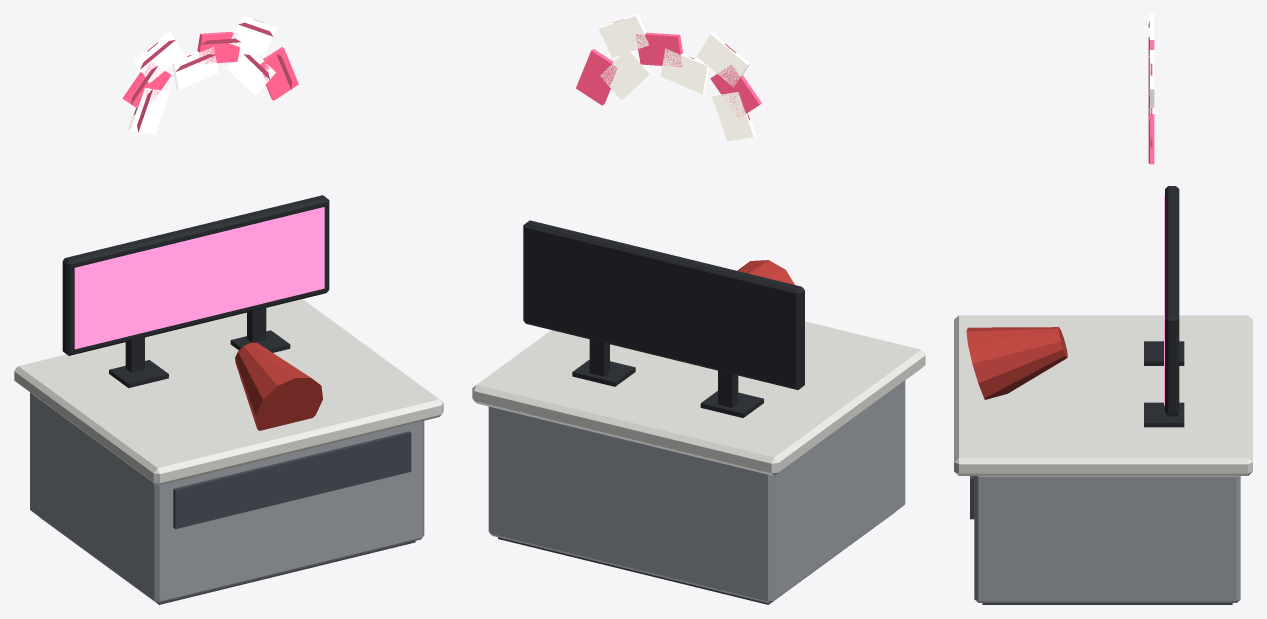
File: replyall_3.glb
3 renders of one model, left to right at view 1: azimuth 30°, elevation 25°; view 2: azimuth 150°, elevation 25°; view 3: azimuth 270°, elevation 25°, orthographic. The views are drawn at different scales.
Visible parts, largest first — view 1: replyall_3_mesh_Desk, replyall_3_mesh; view 2: replyall_3_mesh_Desk, replyall_3_mesh; view 3: replyall_3_mesh_Desk, replyall_3_mesh.
Part boxes in pixels (<box>): replyall_3_mesh_Desk: <box>14,299,443,604</box>; replyall_3_mesh: <box>62,14,329,430</box>; replyall_3_mesh_Desk: <box>472,321,925,604</box>; replyall_3_mesh: <box>523,14,804,417</box>; replyall_3_mesh_Desk: <box>954,315,1252,604</box>; replyall_3_mesh: <box>966,14,1184,427</box>.
Size of the model in its own units: 0.86 by 1.39 by 0.74.
